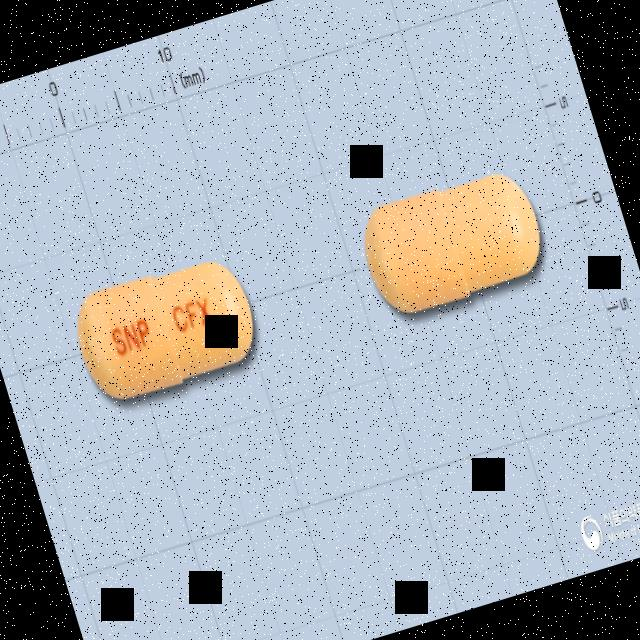A Progen Cefixime Cap: (64, 245, 268, 412)
